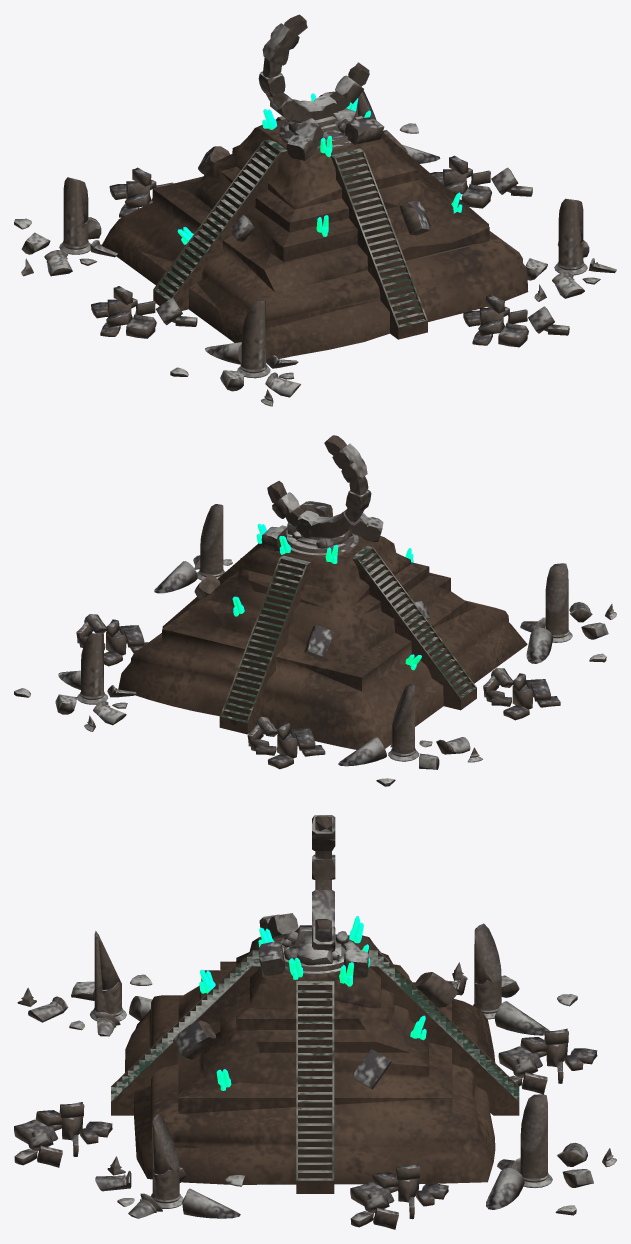
File: AncientTemple.fbx
3 views of the same model, one above another, from view 1: azimuth 30°, elevation 25°; view 2: azimuth 150°, elevation 25°; view 3: azimuth 270°, elevation 25° (orthographic). The views are drawn at different scales.
Visible parts, largest first — view 1: AncientTemple; view 2: AncientTemple; view 3: AncientTemple.
Boxes of the visible parts, left/top/right/bottom form: AncientTemple: left=14, top=14, right=616, bottom=406; AncientTemple: left=14, top=435, right=616, bottom=786; AncientTemple: left=14, top=815, right=616, bottom=1229.
Size of the model in its own units: 26.2 by 13.6 by 26.18.
1 material, 1 textured.
